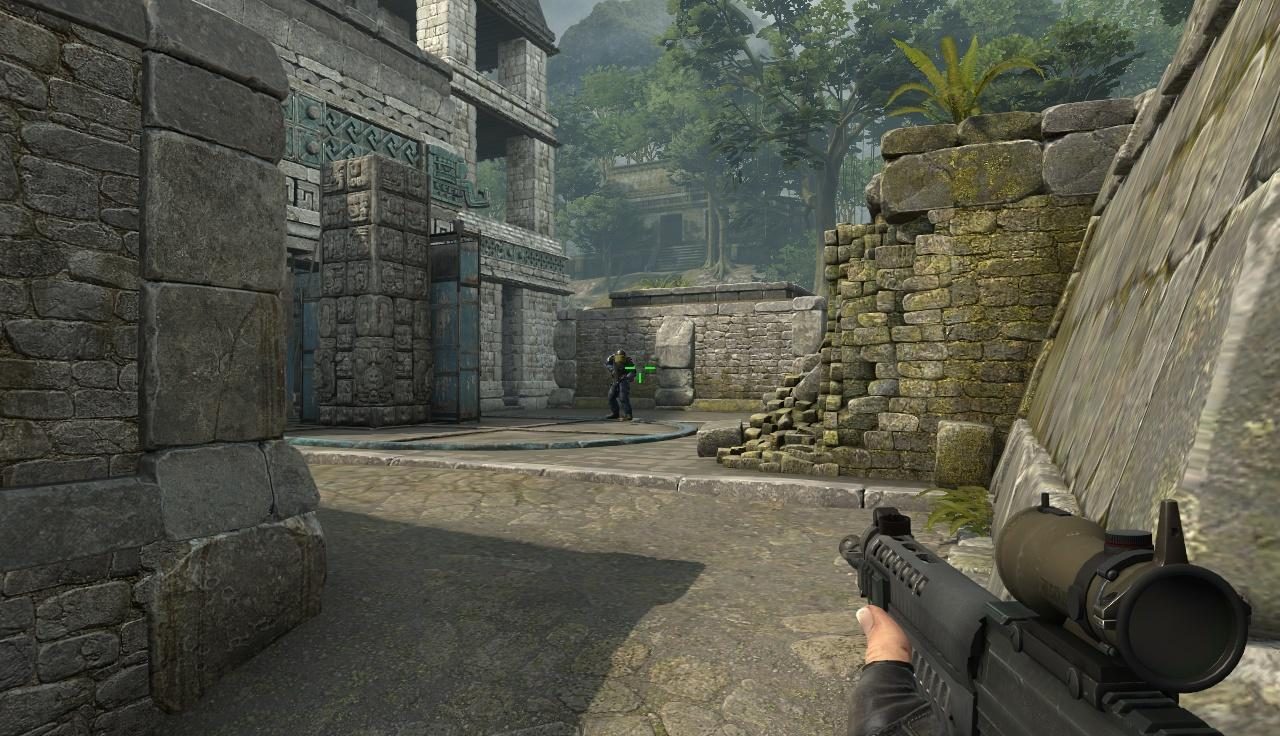ct: (609, 349, 634, 420)
cthead: (614, 350, 625, 363)
rifle: (848, 500, 1280, 736)
